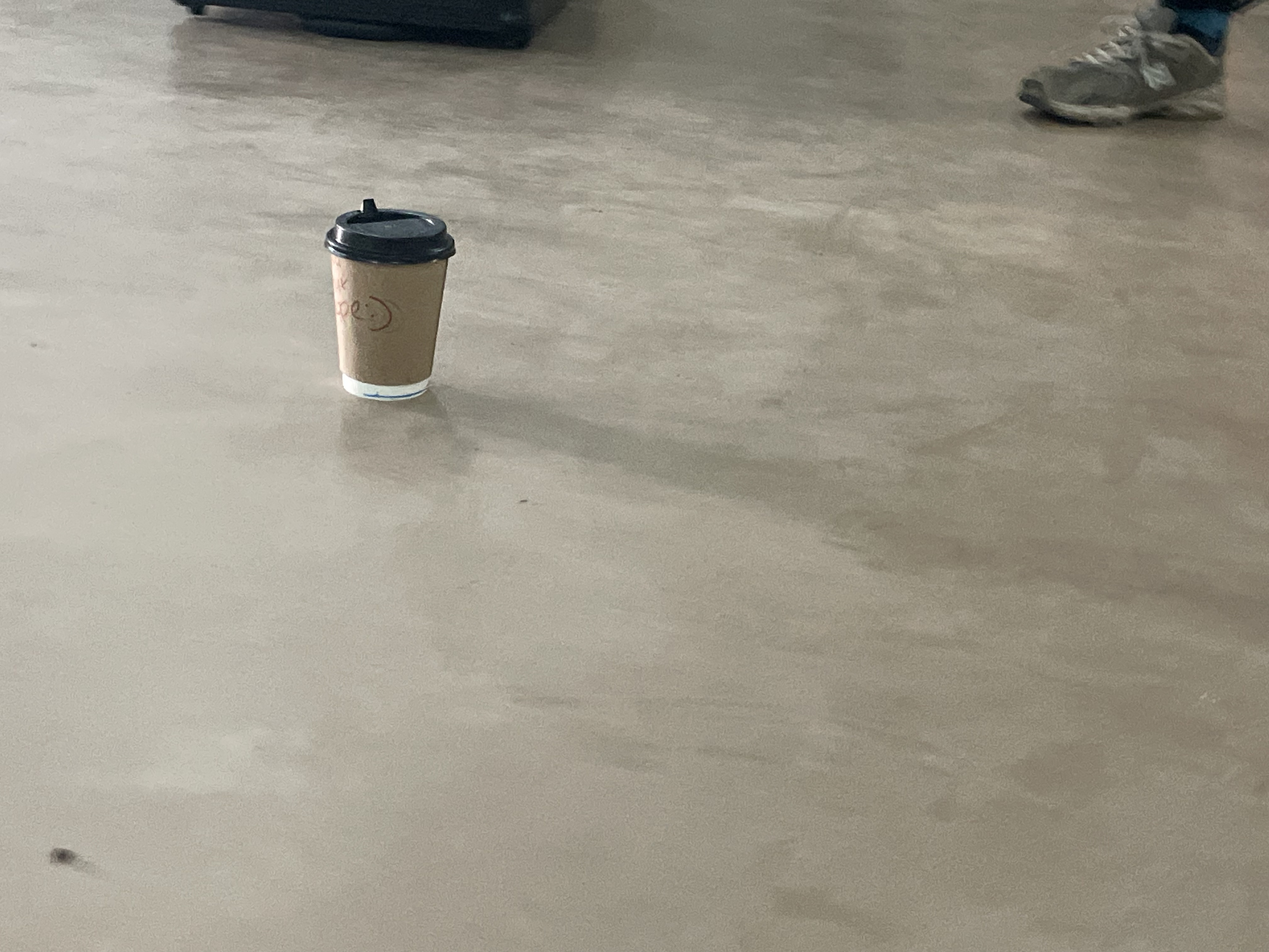cup: (324, 199, 456, 401)
